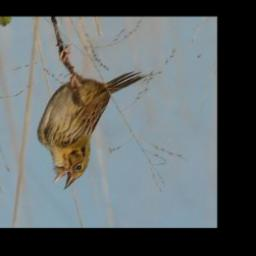Sparrow: (36, 45, 149, 191)
